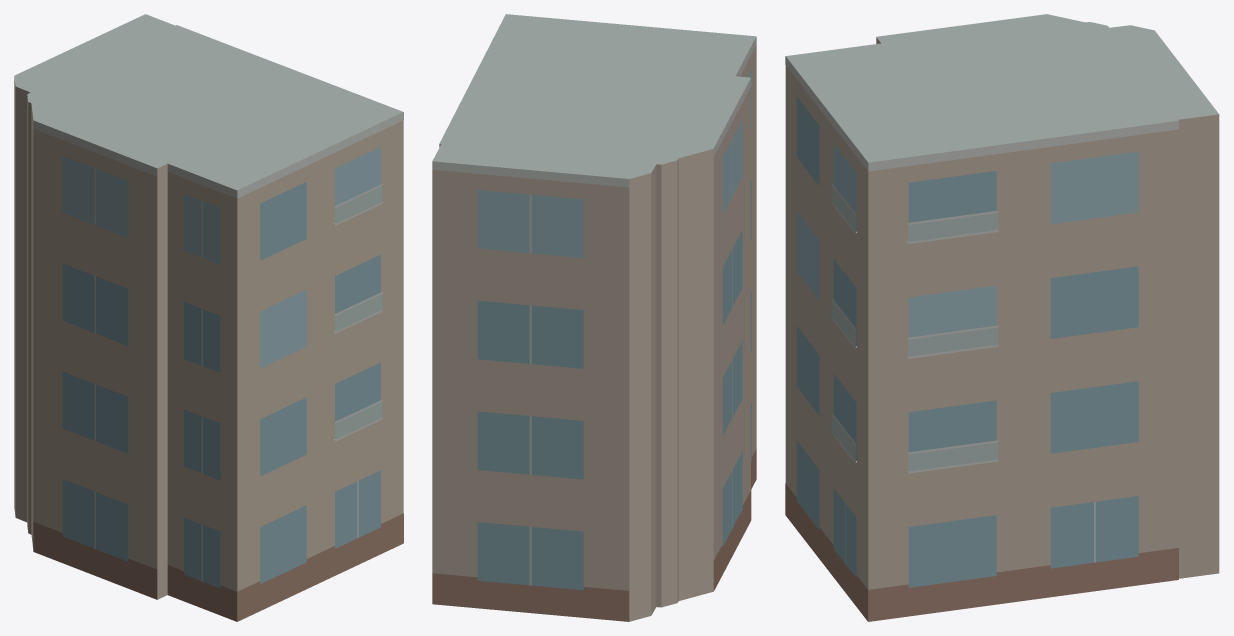
Rendered from survey-upis-32622688.glb.
3 views of the same model, side by side, from view 1: azimuth 30°, elevation 25°; view 2: azimuth 150°, elevation 25°; view 3: azimuth 270°, elevation 25° (orthographic). The views are drawn at different scales.
Parts seen in each view (by area): view 1: survey-upis-32622688.tmp; view 2: survey-upis-32622688.tmp; view 3: survey-upis-32622688.tmp.
Part boxes in pixels (x1,y1,x2,y2): survey-upis-32622688.tmp: (14, 14, 403, 621); survey-upis-32622688.tmp: (432, 14, 756, 621); survey-upis-32622688.tmp: (785, 14, 1219, 621).
Size of the model in its own units: 8.9 by 12.8 by 10.97.
